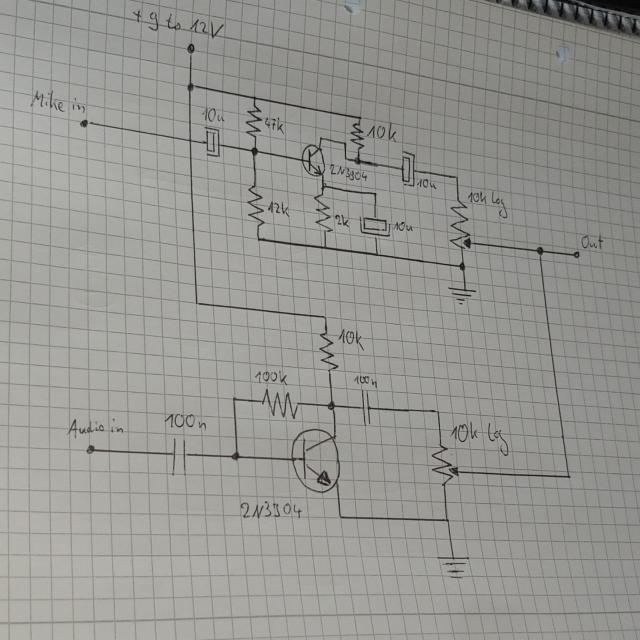capacitor: (168, 436, 192, 476), (357, 214, 391, 238), (398, 149, 417, 188), (202, 124, 222, 158), (358, 389, 374, 427)
crossover: (185, 135, 194, 145)
ground: (434, 554, 471, 580), (445, 285, 477, 307)
junction: (326, 399, 336, 412), (230, 450, 240, 462), (185, 80, 195, 92), (457, 261, 467, 272), (535, 245, 544, 257), (249, 145, 259, 155), (442, 515, 452, 525), (253, 233, 262, 243), (353, 157, 362, 166), (321, 312, 329, 321), (433, 407, 441, 416), (336, 512, 344, 521), (319, 181, 327, 190), (250, 94, 258, 102), (371, 190, 378, 198), (452, 173, 460, 180), (317, 134, 324, 142), (566, 471, 572, 480), (341, 139, 348, 146), (193, 299, 200, 306), (373, 250, 380, 257), (322, 243, 328, 251), (230, 396, 237, 402), (342, 155, 348, 161), (356, 114, 362, 120)
resistor: (446, 198, 476, 252), (429, 443, 461, 489), (259, 388, 299, 420), (245, 182, 265, 226), (318, 330, 338, 373), (312, 193, 332, 234), (244, 104, 262, 138), (348, 122, 365, 150)
terminal: (185, 42, 196, 54), (570, 249, 582, 260), (85, 442, 96, 454), (78, 118, 90, 128)
text: (132, 8, 225, 39), (448, 420, 509, 456), (29, 88, 86, 115), (238, 499, 303, 521), (466, 190, 509, 220), (65, 416, 125, 436), (162, 411, 207, 431), (328, 162, 367, 182), (366, 120, 398, 143), (337, 327, 365, 349), (252, 369, 288, 385), (201, 106, 226, 124), (267, 199, 291, 217), (580, 232, 604, 250), (352, 374, 378, 389), (264, 115, 284, 134), (392, 219, 414, 233), (334, 211, 350, 229), (416, 177, 438, 190)
transistor: (290, 427, 341, 494), (301, 142, 327, 177)
